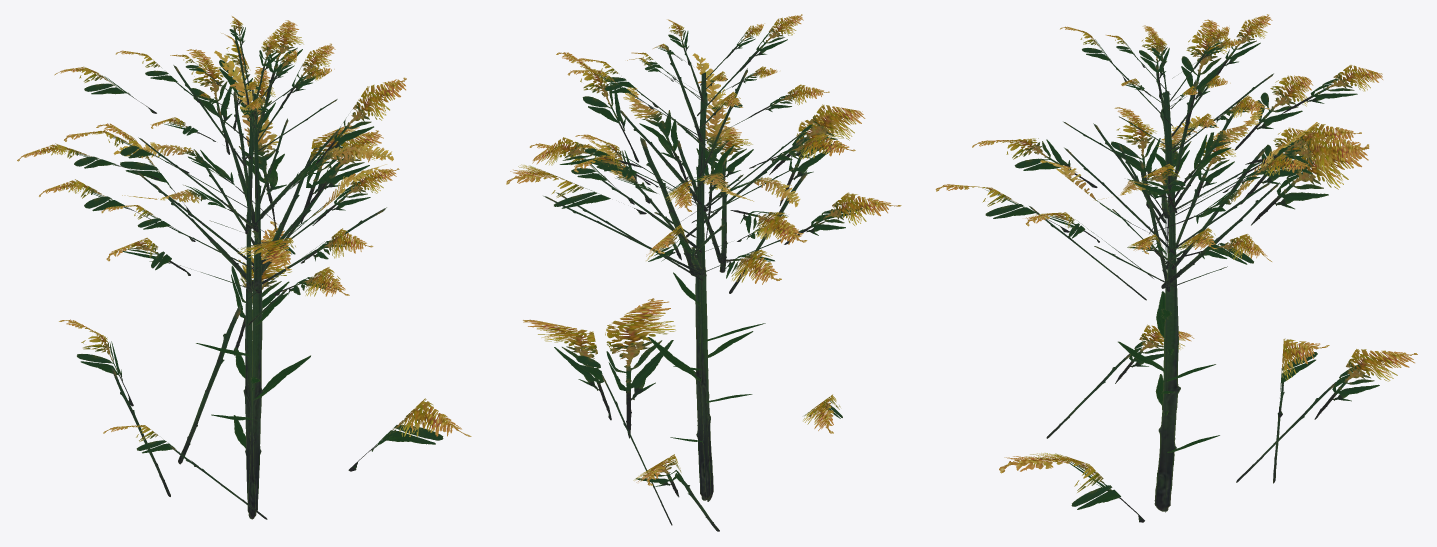
The model's file is arden_forest_ambrosia_02_foliage.fbx.
The picture shows the model from 3 angles, left to right: view 1: azimuth 30°, elevation 25°; view 2: azimuth 150°, elevation 25°; view 3: azimuth 270°, elevation 25°; orthographic projection.
Visible parts, largest first — view 1: arden_forest_ambrosia_02_foliage; view 2: arden_forest_ambrosia_02_foliage; view 3: arden_forest_ambrosia_02_foliage.
Part boxes in pixels (box(x1,y1,x2,y2)): arden_forest_ambrosia_02_foliage: box(17, 16, 471, 519); arden_forest_ambrosia_02_foliage: box(506, 14, 901, 531); arden_forest_ambrosia_02_foliage: box(935, 14, 1417, 522).
Bounding box in the file's own units: 76.61 × 108 × 97.87.
